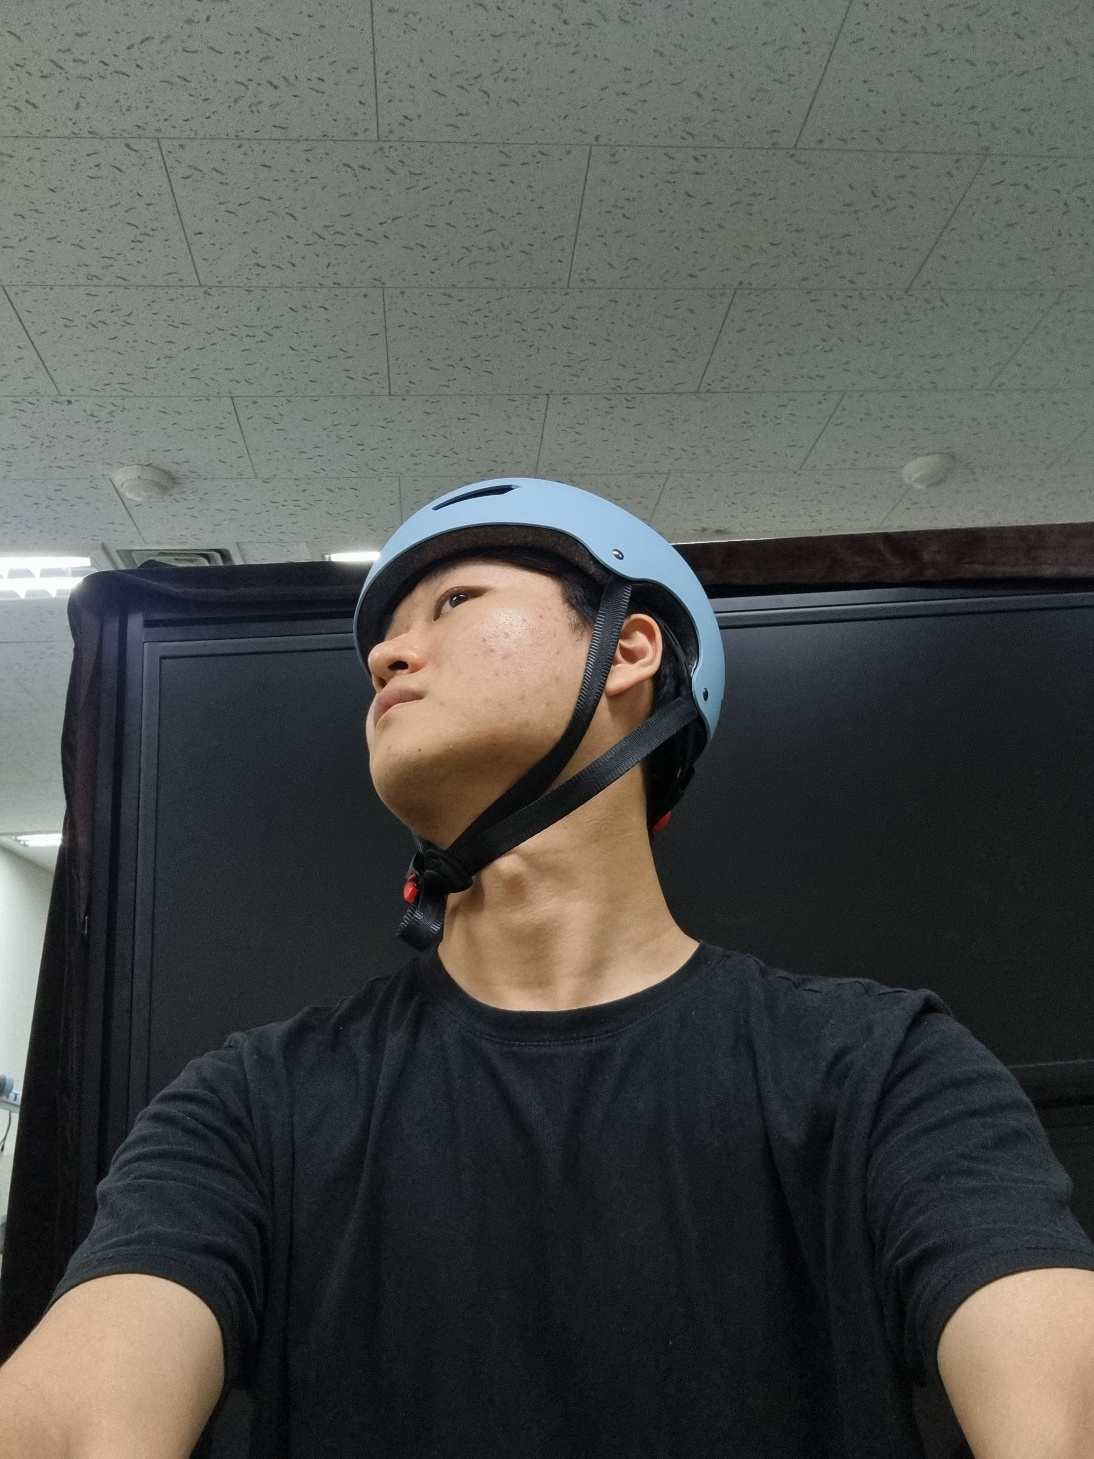Helmet: (322, 440, 750, 936)
